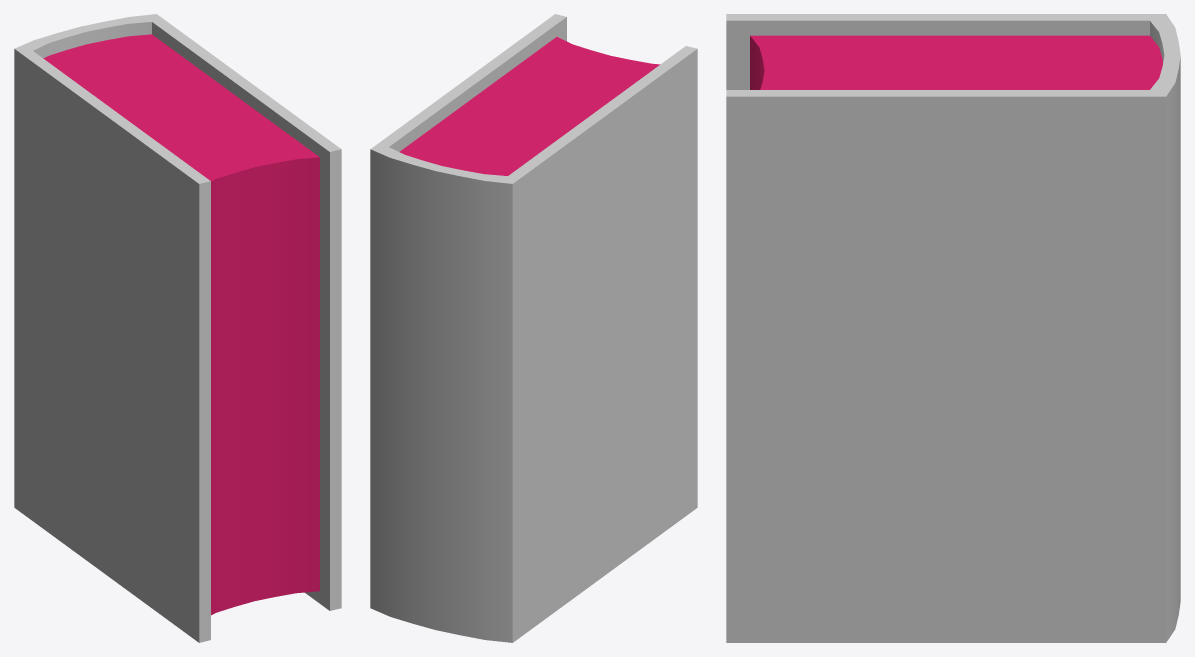
File: mod_book.fbx
The picture shows the model from 3 angles, left to right: view 1: azimuth 30°, elevation 25°; view 2: azimuth 150°, elevation 25°; view 3: azimuth 270°, elevation 25°; orthographic projection. The views are drawn at different scales.
Visible parts, largest first — view 1: Book; view 2: Book; view 3: Book.
Boxes of the visible parts, x1,y1,x2,y2 form: Book: (14, 14, 341, 642); Book: (370, 14, 697, 642); Book: (726, 14, 1180, 642).
Bounding box in the file's own units: 64.93 × 200 × 151.
